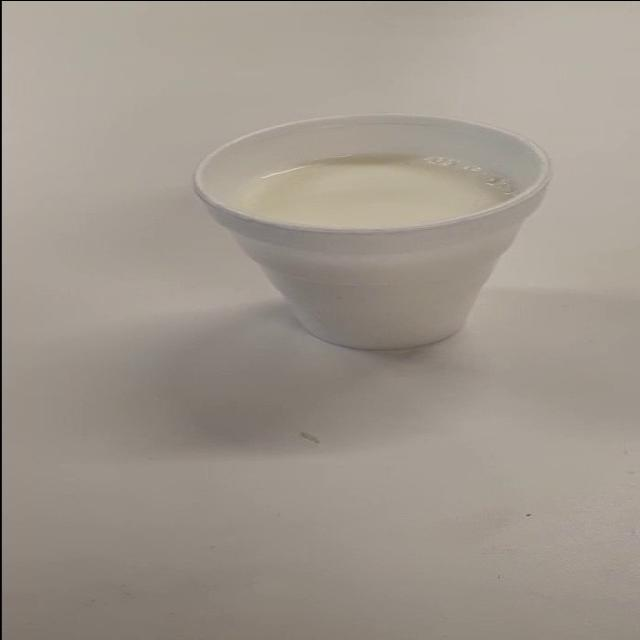Milk: (172, 97, 577, 366)
